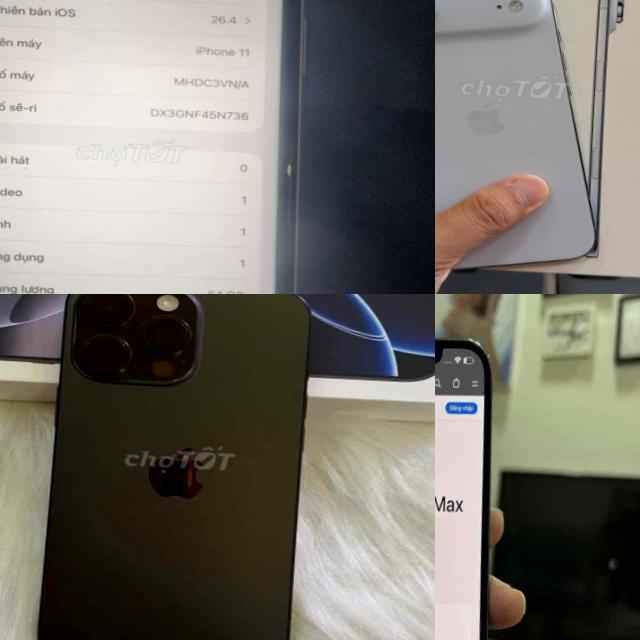gen_11: (0, 0, 337, 294)
gen_12_13: (435, 325, 510, 640)
gen_16: (13, 294, 346, 640)
gen_17: (435, 0, 619, 272)
